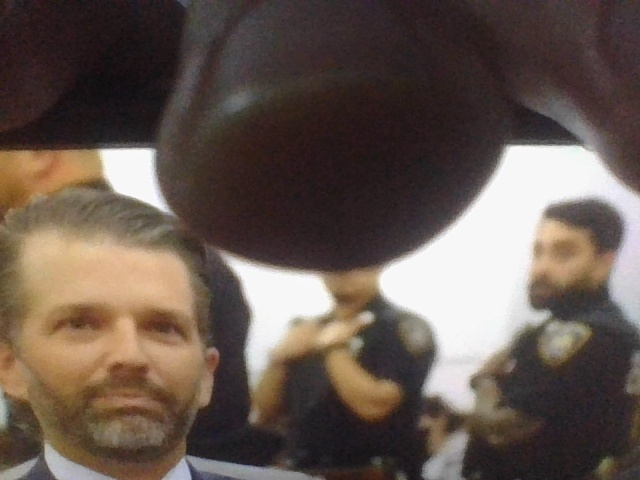fake: (1, 172, 220, 480)
